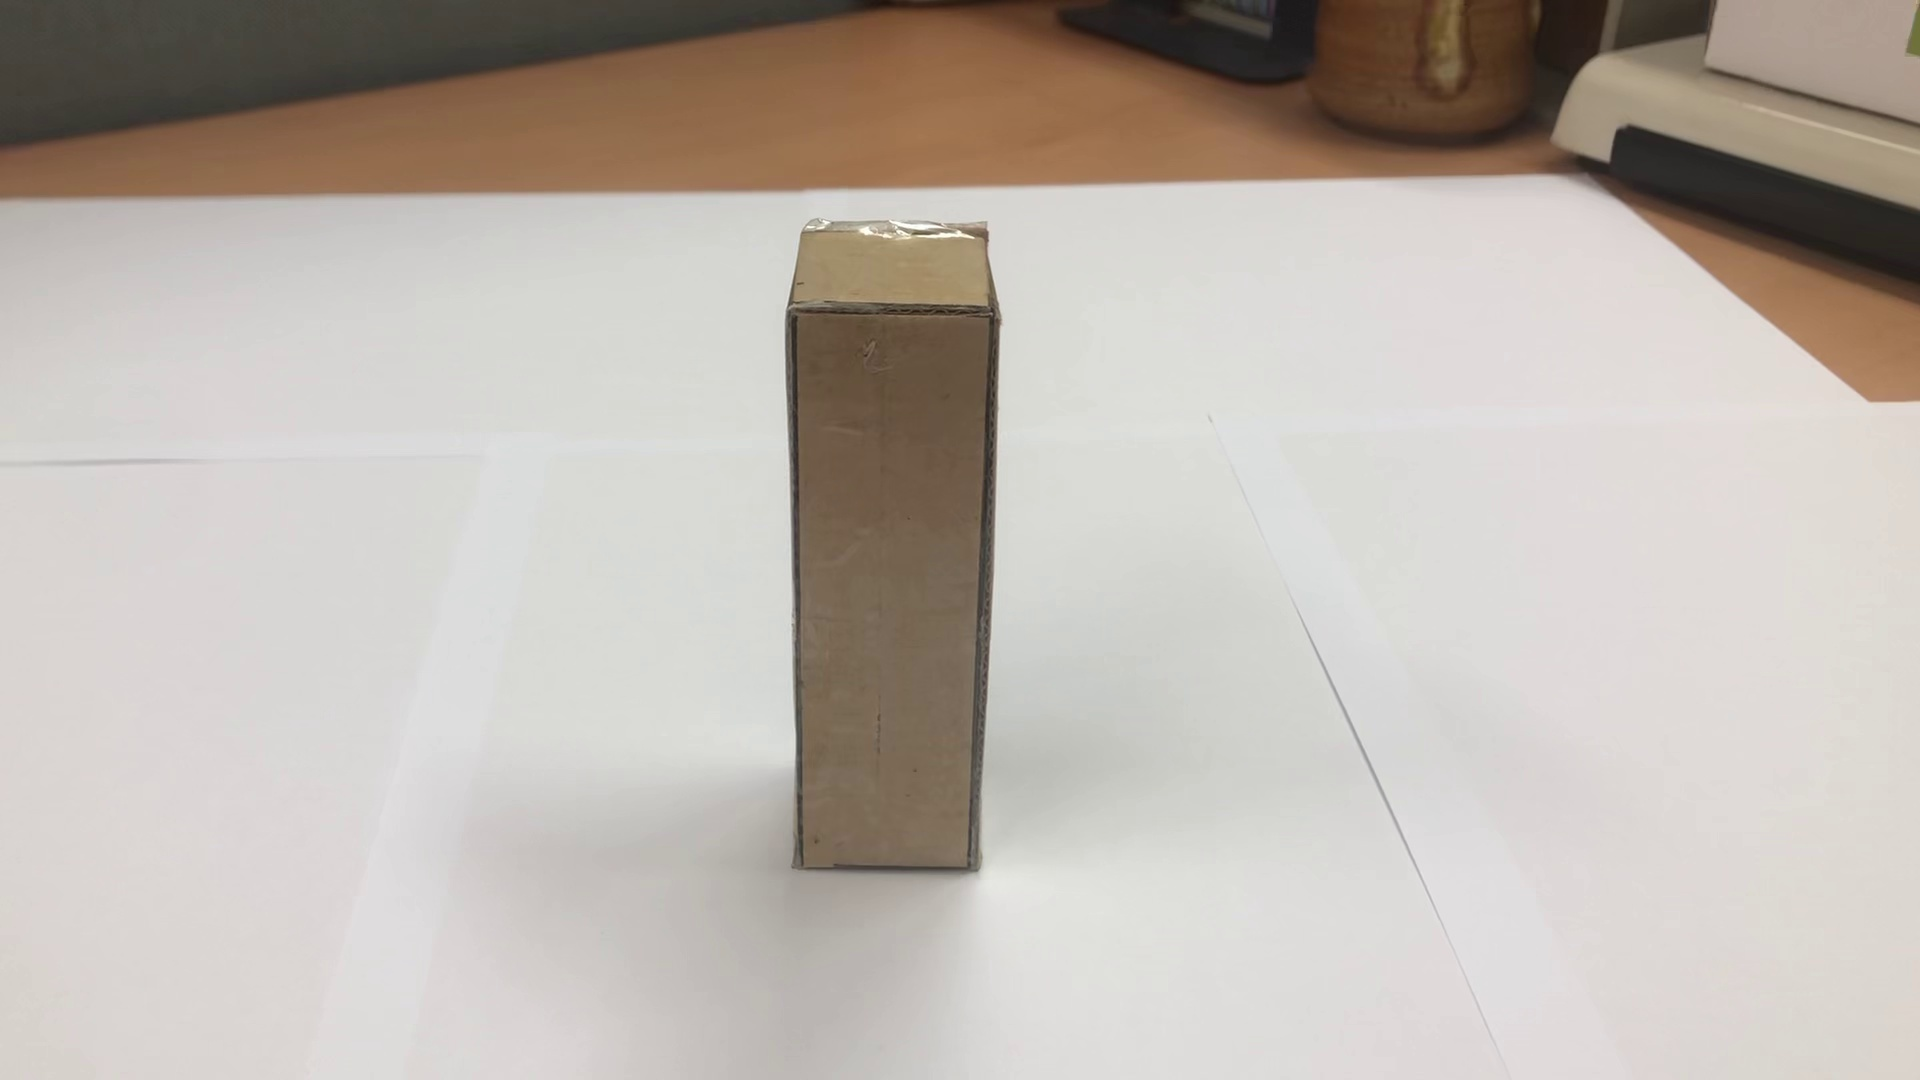box: (746, 189, 1009, 902)
